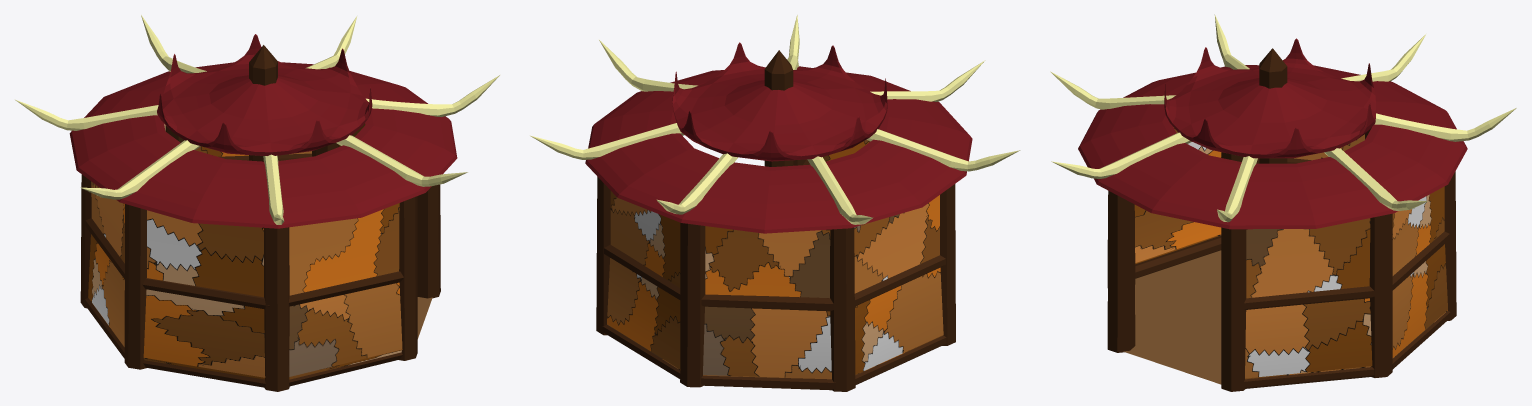
The model's file is Orc Build 01 Lowpoly.fbx.
3 views of the same model, side by side, from view 1: azimuth 30°, elevation 25°; view 2: azimuth 150°, elevation 25°; view 3: azimuth 270°, elevation 25° (orthographic).
Visible parts, largest first — view 1: Pavimento, SottoTetto, Tetto, Pilastri, Pavimento.001, ZanneTetto, Travi; view 2: Pavimento, SottoTetto, Tetto, Pilastri, Pavimento.001, ZanneTetto, Travi; view 3: Pavimento, SottoTetto, Tetto, Pilastri, Pavimento.001, ZanneTetto, Travi.
Part boxes in pixels (<box>): Pavimento: <box>88,123,432,379</box>; SottoTetto: <box>69,62,457,228</box>; Tetto: <box>157,34,372,155</box>; Pilastri: <box>80,45,440,391</box>; Pavimento.001: <box>88,124,431,378</box>; ZanneTetto: <box>15,15,499,224</box>; Travi: <box>85,153,403,387</box>; Pavimento: <box>607,140,943,379</box>; SottoTetto: <box>585,66,972,233</box>; Tetto: <box>672,42,887,161</box>; Pilastri: <box>596,50,955,391</box>; Pavimento.001: <box>607,140,943,379</box>; ZanneTetto: <box>530,15,1020,224</box>; Travi: <box>602,159,946,390</box>; Pavimento: <box>1123,127,1447,384</box>; SottoTetto: <box>1078,65,1467,229</box>; Tetto: <box>1164,38,1375,158</box>; Pilastri: <box>1107,48,1456,391</box>; Pavimento.001: <box>1127,129,1447,383</box>; ZanneTetto: <box>1050,14,1516,222</box>; Travi: <box>1135,157,1450,388</box>.
Bounding box in the file's own units: 660 × 404 × 638.
